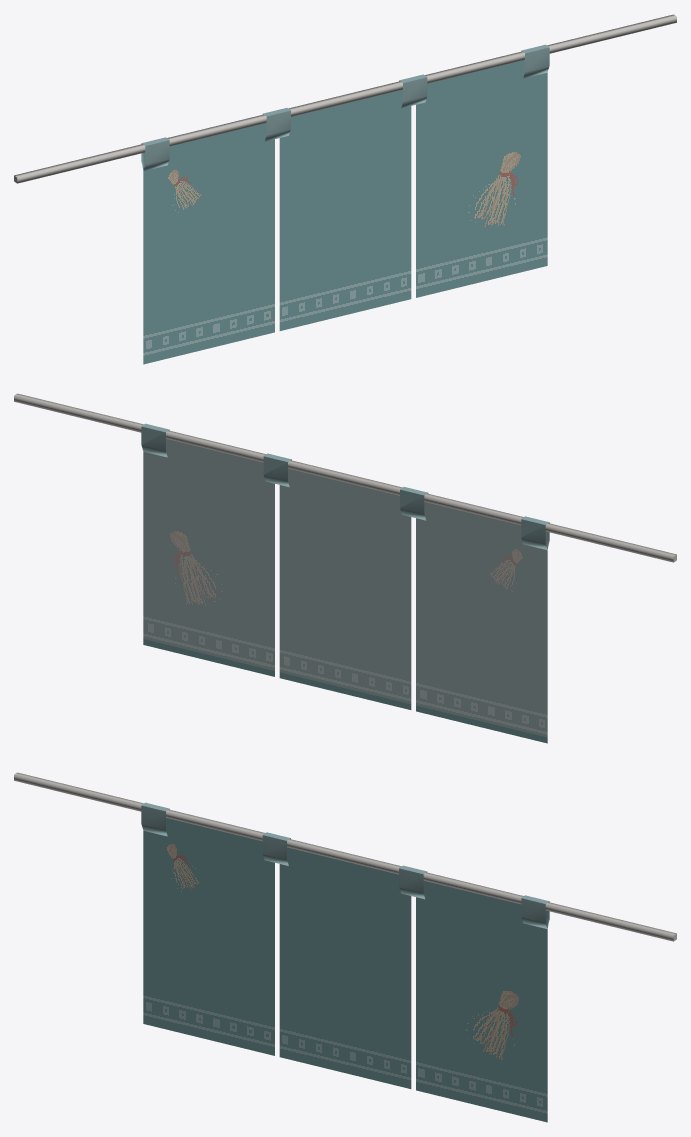
The model's file is 053d_Shop_Curtain.glb.
The picture shows the model from 3 angles, top to bottom: view 1: azimuth 30°, elevation 25°; view 2: azimuth 150°, elevation 25°; view 3: azimuth 330°, elevation 25°; orthographic projection.
Visible parts, largest first — view 1: part_0; view 2: part_0; view 3: part_0.
Part boxes in pixels (x1,y1,x2,y2): part_0: (14, 14, 676, 364); part_0: (14, 393, 676, 743); part_0: (14, 772, 676, 1122).
Size of the model in its own units: 2.34 by 0.7467 by 0.0242.
1 material, 1 textured.
